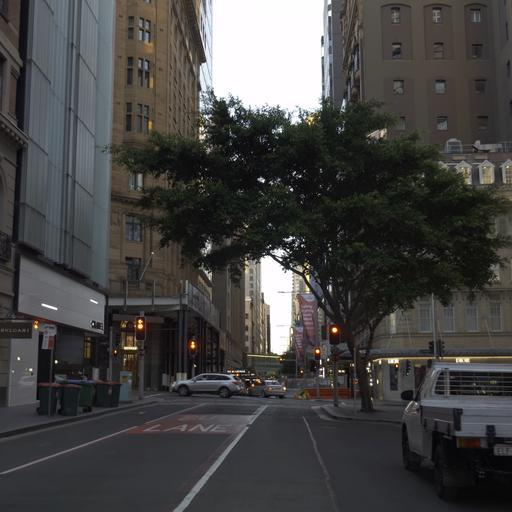Street light: (277, 289, 322, 397), (134, 313, 146, 399), (328, 324, 340, 406), (188, 333, 197, 377), (314, 346, 321, 397), (188, 336, 196, 354), (314, 346, 320, 360)
